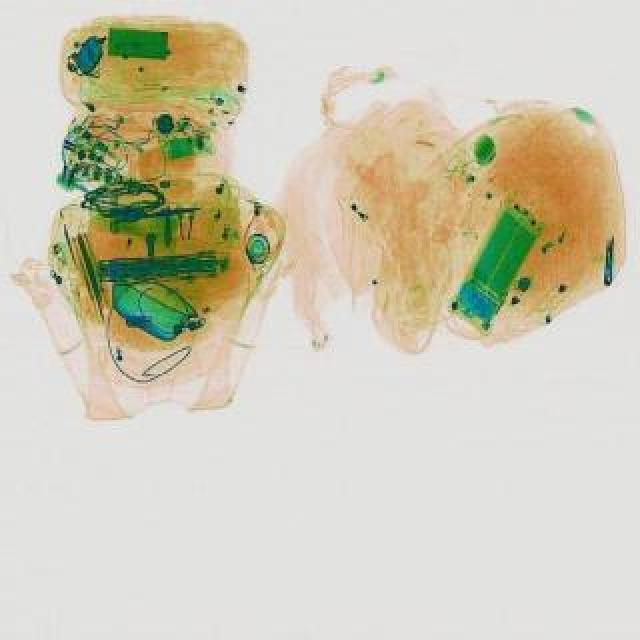knife: (108, 202, 204, 230)
pliers: (602, 240, 614, 290)
